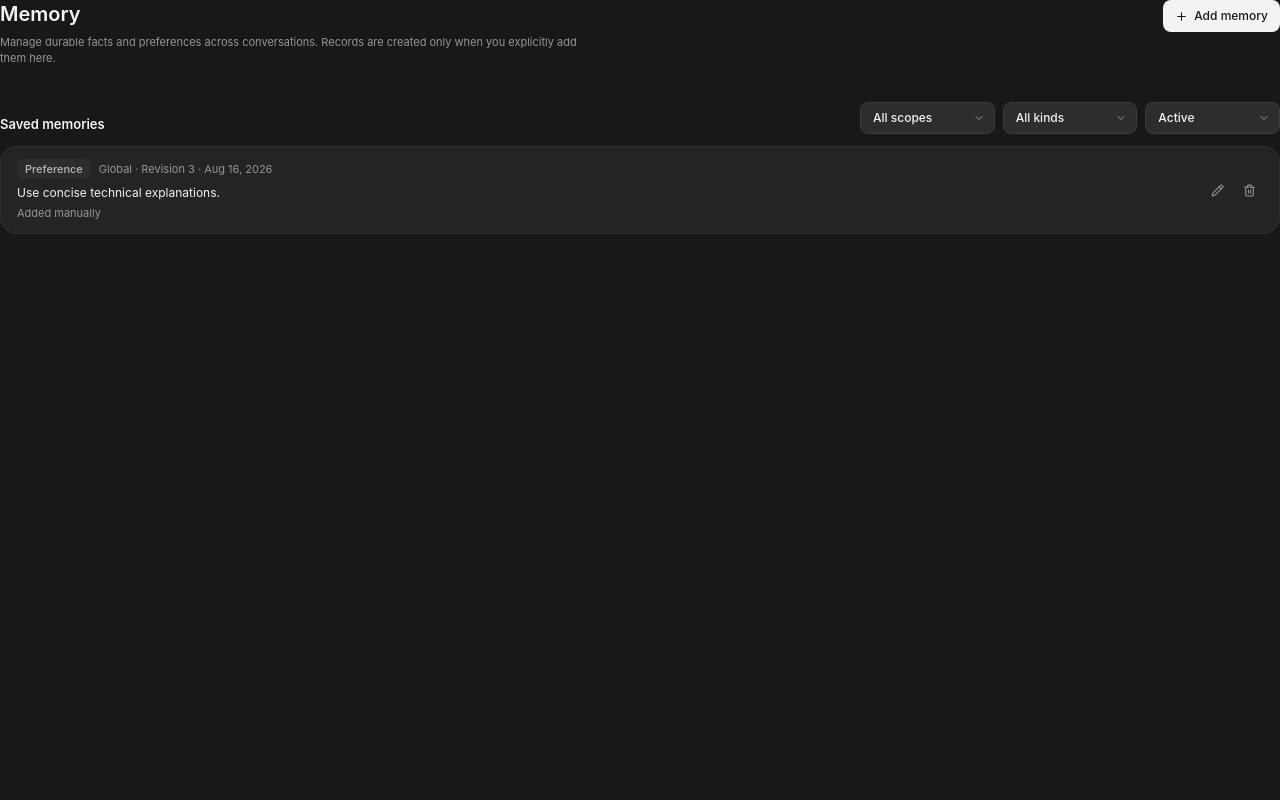
it: MemorySettings › invalidates Correct when the authoritative record was forgotten elsewhere
Check: the text "Added manually" is shown, box left=17, top=206, right=101, bottom=220
Click the button named "Correct memory".
click(1217, 190)  # box left=1203, top=176, right=1231, bottom=204
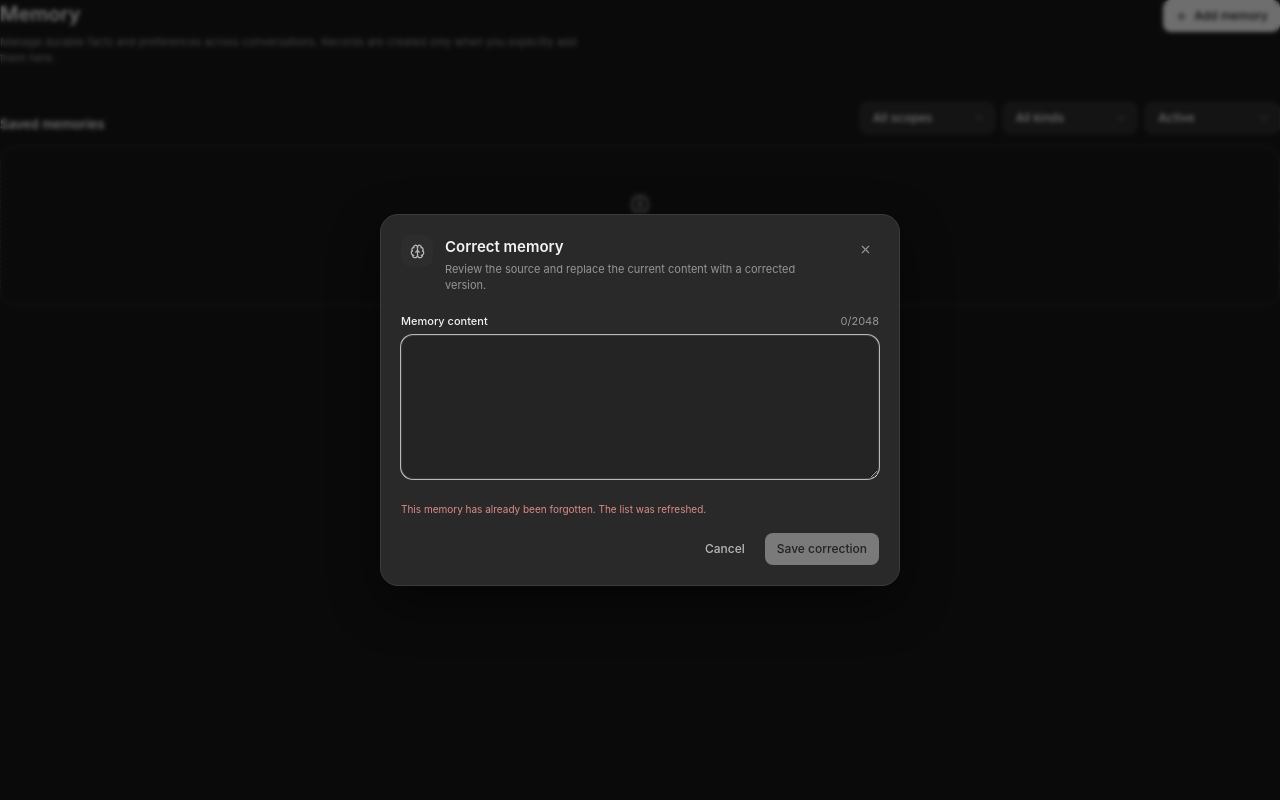
Check: the text "already been forgotten" is shown, box left=401, top=503, right=706, bottom=515
Check: the button "Save correction" is disabled, box left=765, top=533, right=879, bottom=565
